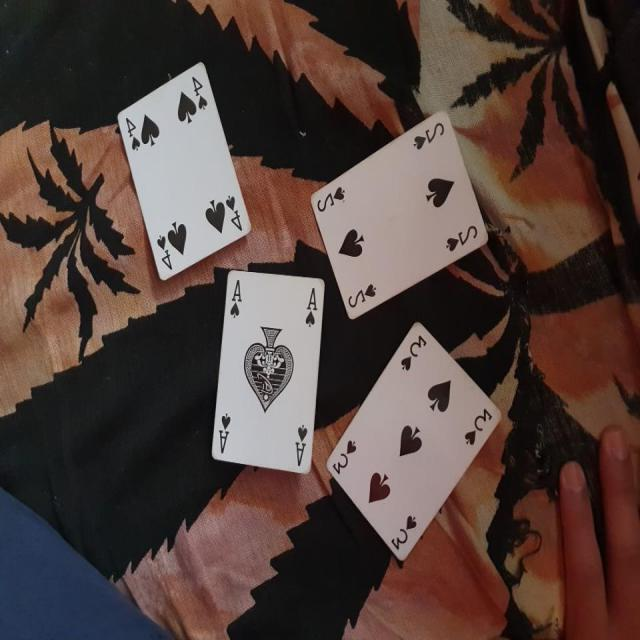2 of spades: (314, 111, 488, 327)
3 of spades: (326, 316, 502, 566)
4 of spades: (113, 50, 248, 291)
ace of spades: (206, 271, 330, 473)
